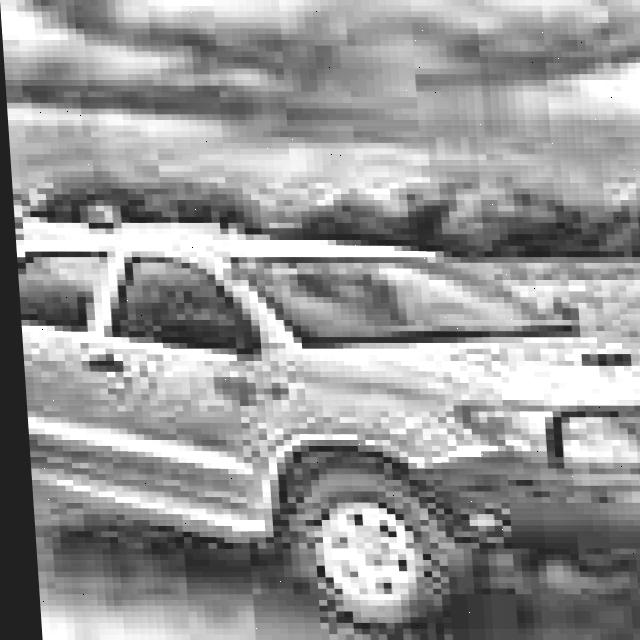light_vehicle: (8, 160, 640, 640)
